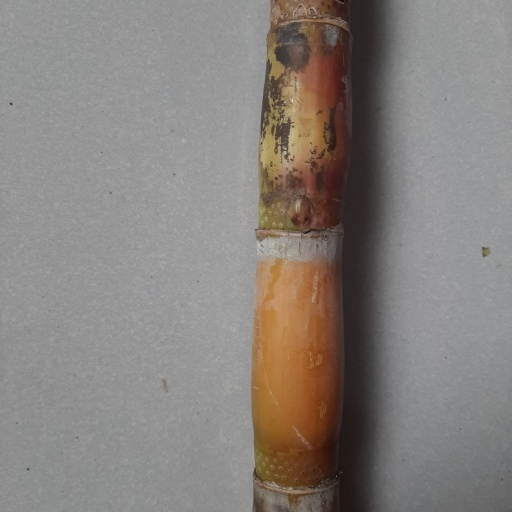Bud: (285, 195, 315, 232)
